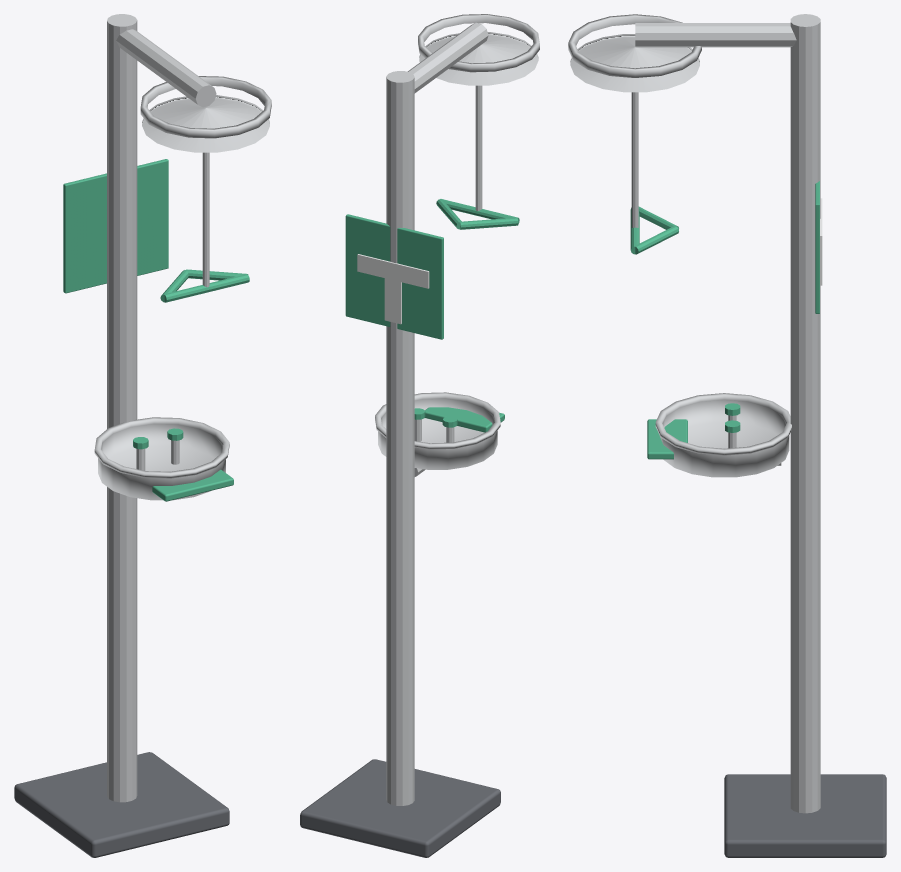
Rendered from safety-shower.glb.
The picture shows the model from 3 angles, left to right: view 1: azimuth 30°, elevation 25°; view 2: azimuth 150°, elevation 25°; view 3: azimuth 270°, elevation 25°; orthographic projection. The views are drawn at different scales.
Parts seen in each view (by area): view 1: safety-shower; view 2: safety-shower; view 3: safety-shower.
Part boxes in pixels (x1=…): safety-shower: x1=14, y1=14, x2=271, y2=857; safety-shower: x1=300, y1=14, x2=539, y2=857; safety-shower: x1=568, y1=14, x2=886, y2=857.
Bounding box in the file's own units: 0.4 × 2.19 × 0.785.
